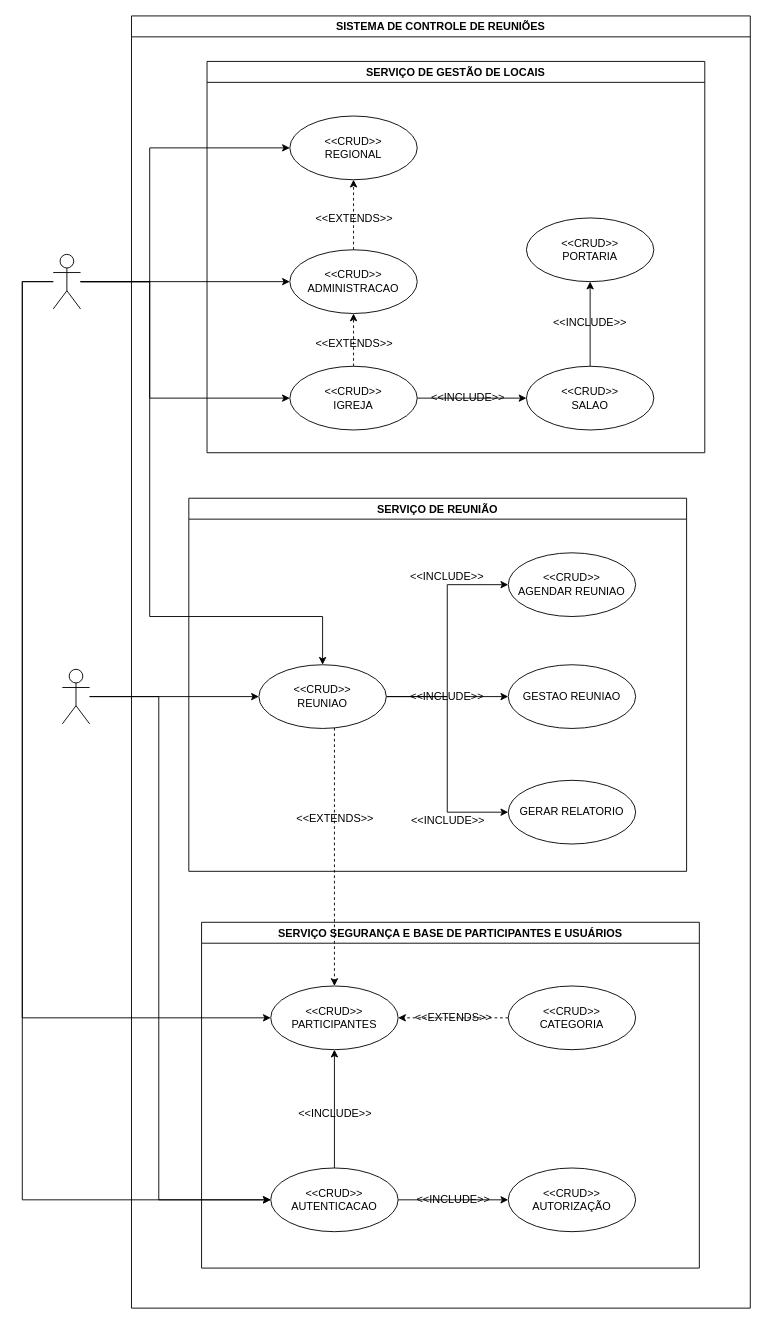
The diagram is 766 pixels wide and 1324 high, and some of its shapes have lost their labels. The shapes that lost their labels are listed below. From the top down, each one's box as (x1, y1, x2, y2) in pixels, then its label:
(52, 253, 81, 309): ADM
(61, 668, 90, 724): COLABORADOR
